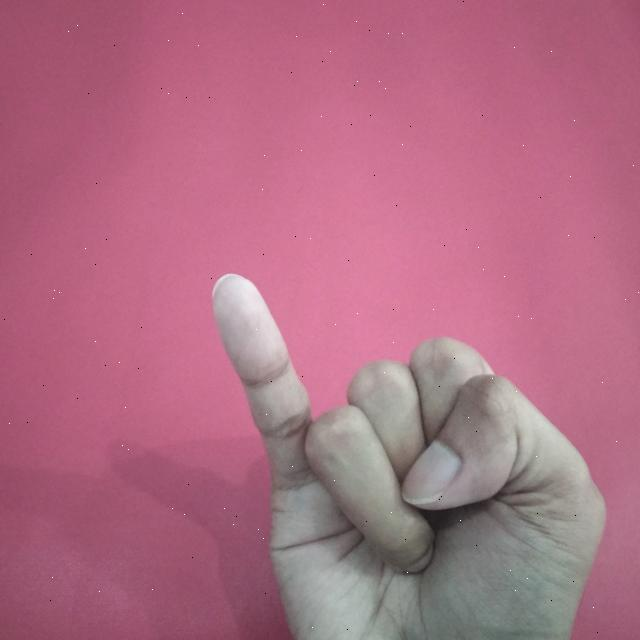I: (202, 270, 616, 640)
